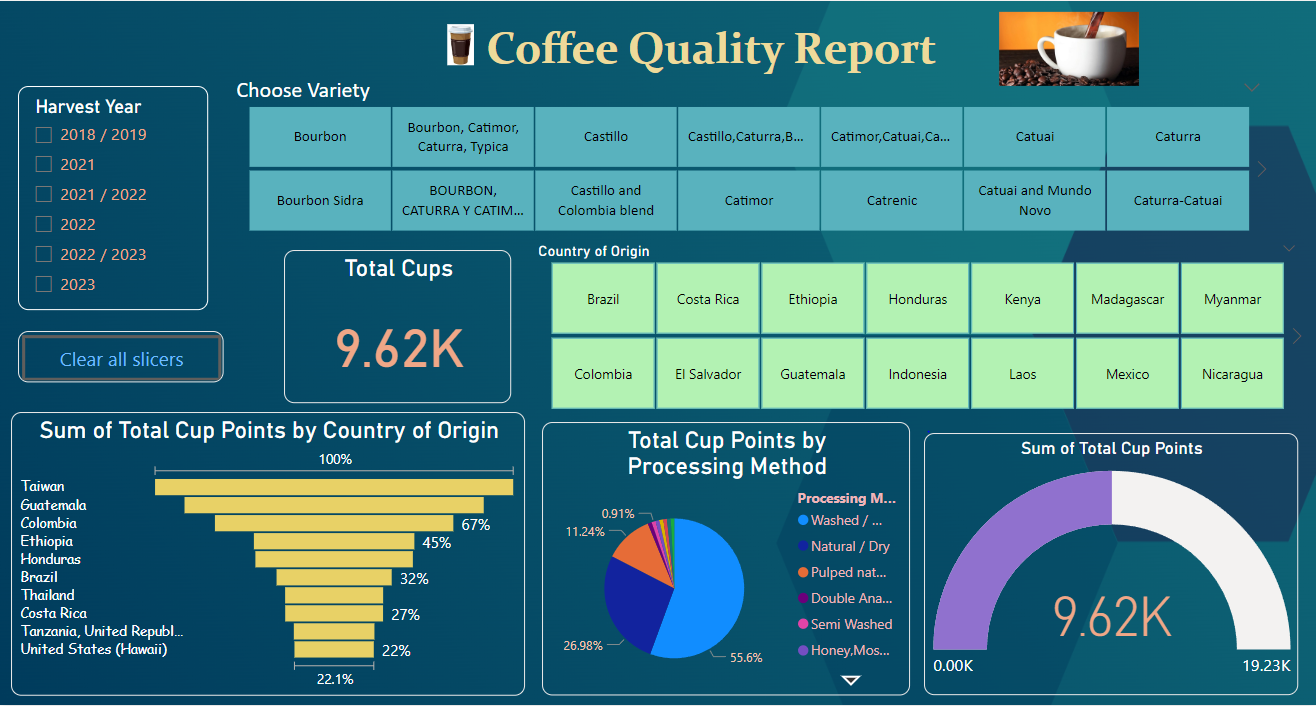

The page's visual inventory and layout, read from the dashboard file:
{"tool":"powerbi","page":{"name":"Page 1","canvas":[1280,720],"ordinal":0},"visuals":[{"type":"card","title":"Total Cups","fields":{"Values":["Sum(df_arabica_clean.Total Cup Points)"]},"box":[276,277,221.4,149.3],"z":0},{"type":"gauge","fields":{"Y":["Sum(df_arabica_clean.Total Cup Points)"]},"box":[899,455.2,363.5,255.4],"z":1000},{"type":"pieChart","title":"Total Cup Points by Processing Method","fields":{"Y":["Sum(df_arabica_clean.Total Cup Points)"],"Category":["df_arabica_clean.Processing Method"]},"box":[527.2,444.9,358.4,265.7],"z":2000},{"type":"funnel","fields":{"Category":["df_arabica_clean.Country of Origin"],"Y":["Sum(df_arabica_clean.Total Cup Points)"]},"box":[10.3,434.6,500.5,276],"z":3000},{"type":"actionButton","box":[17.5,356.3,199.8,50.5],"z":4000},{"type":"slicer","fields":{"Values":["df_arabica_clean.Harvest Year"]},"box":[17.5,117.4,185.4,218.3],"z":5000},{"type":"slicer","fields":{"Values":["df_arabica_clean.Variety"]},"box":[217.3,103,1021.5,161.7],"z":6000},{"type":"slicer","fields":{"Values":["df_arabica_clean.Country of Origin"]},"box":[510.8,264.7,762,174],"z":7000},{"type":"textbox","box":[416,49.4,550.9,65.9],"z":8000},{"type":"image","box":[967,15.4,146.2,132.8],"z":8001},{"type":"image","box":[426.3,52.5,43.3,50.5],"z":8002}]}

Visuals, with their boxes on the page's 1280x720 design canvas (x1, y1, x2, y2). These are canvas units, not pixel positions in the 1316x706 screenshot, which may show the page scaled, cropped or inside an application window:
"Total Cups" card: pyautogui.locateOnScreen(276, 277, 497, 426)
gauge - Sum(df_arabica_clean.Total Cup Points): pyautogui.locateOnScreen(899, 455, 1262, 711)
"Total Cup Points by Processing Method" pieChart: pyautogui.locateOnScreen(527, 445, 886, 711)
funnel - df_arabica_clean.Country of Origin x Sum(df_arabica_clean.Total Cup Points): pyautogui.locateOnScreen(10, 435, 511, 711)
actionButton: pyautogui.locateOnScreen(18, 356, 217, 407)
slicer - df_arabica_clean.Harvest Year: pyautogui.locateOnScreen(18, 117, 203, 336)
slicer - df_arabica_clean.Variety: pyautogui.locateOnScreen(217, 103, 1239, 265)
slicer - df_arabica_clean.Country of Origin: pyautogui.locateOnScreen(511, 265, 1273, 439)
textbox: pyautogui.locateOnScreen(416, 49, 967, 115)
image: pyautogui.locateOnScreen(967, 15, 1113, 148)
image: pyautogui.locateOnScreen(426, 52, 470, 103)
